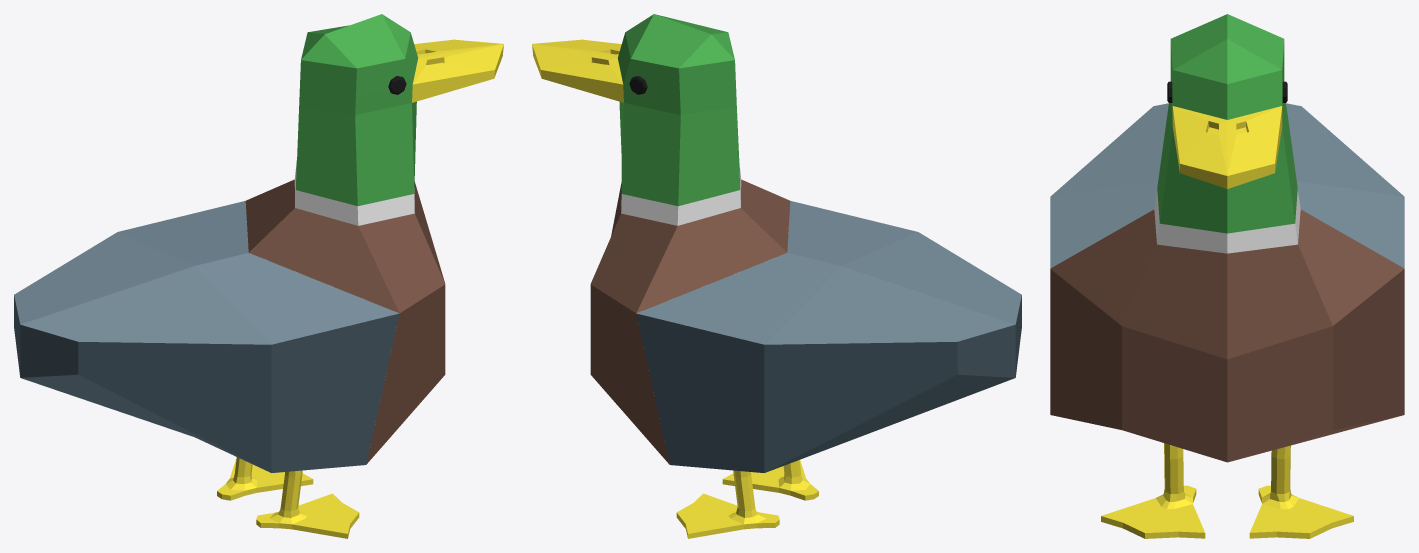
Rendered from duck.glb.
The picture shows the model from 3 angles, left to right: view 1: azimuth 30°, elevation 25°; view 2: azimuth 150°, elevation 25°; view 3: azimuth 270°, elevation 25°; orthographic projection. The views are drawn at different scales.
Visible parts, largest first — view 1: Duck_01_Cube.045; view 2: Duck_01_Cube.045; view 3: Duck_01_Cube.045.
Boxes of the visible parts, x1=… form: Duck_01_Cube.045: x1=14, y1=14, x2=503, y2=538; Duck_01_Cube.045: x1=532, y1=14, x2=1021, y2=538; Duck_01_Cube.045: x1=1050, y1=14, x2=1404, y2=538.
Bounding box in the file's own units: 10.76 × 9.84 × 5.93.
